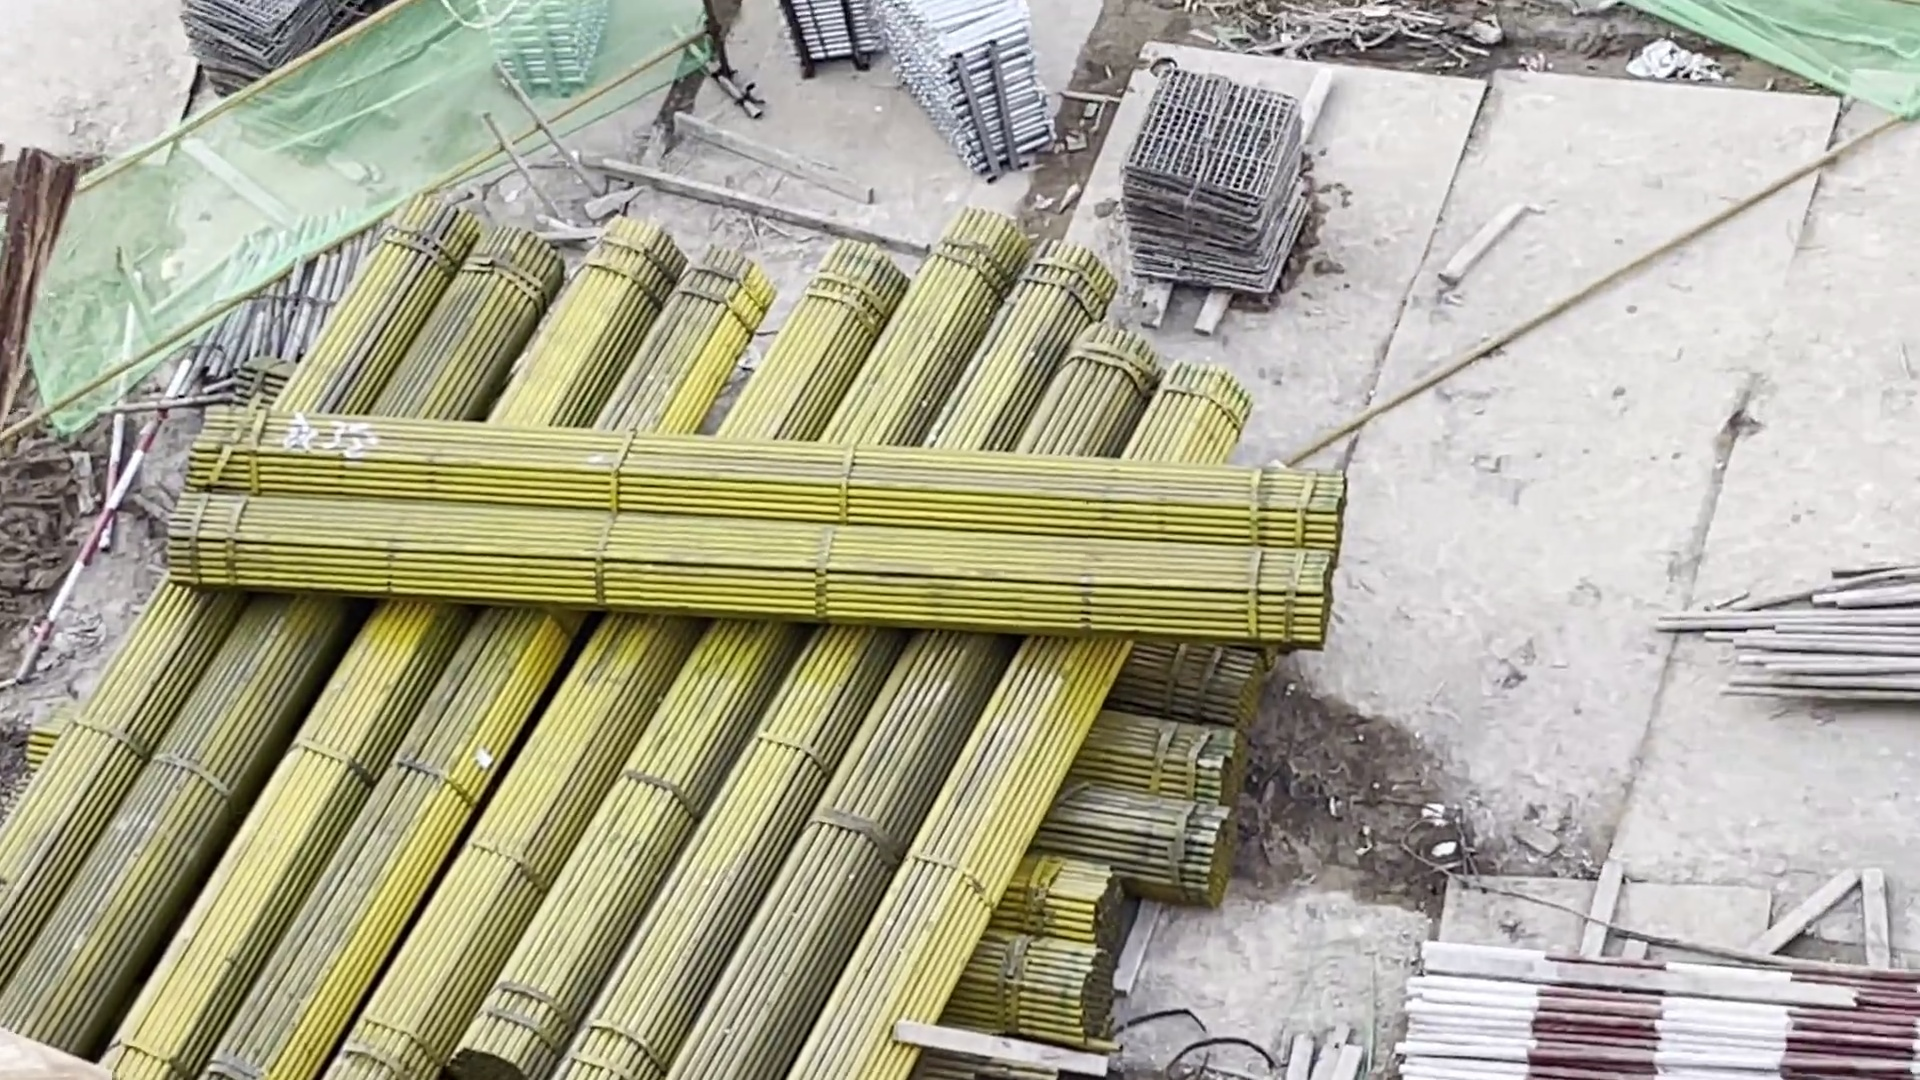scaffold: (884, 1, 1054, 170), (512, 1, 640, 84), (783, 1, 872, 74)
